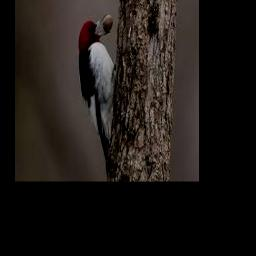Woodpecker: (78, 14, 116, 178)
